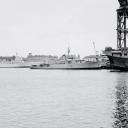Fragata: (30, 47, 103, 71)
